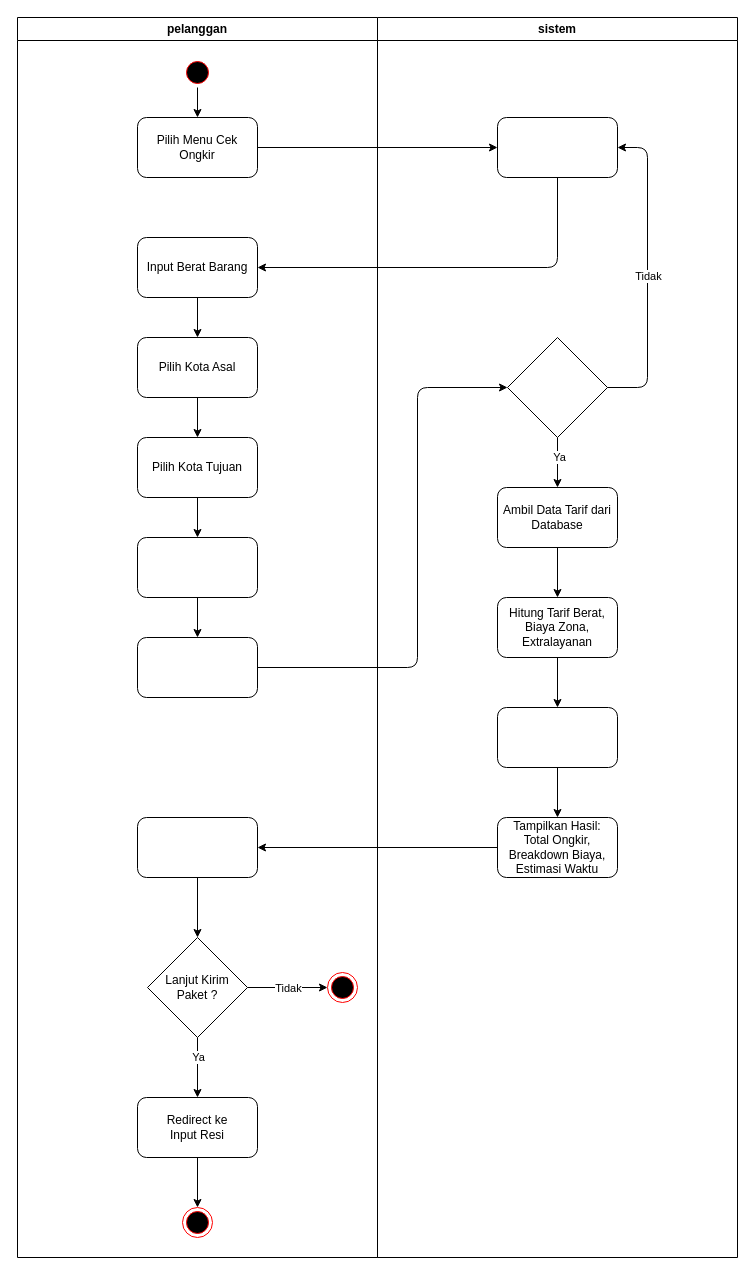
This 755x1275 diagram has some shape labels left out. The centre of each missing label's shape, as x and y in pixels:
"Hitung Estimasi Waktu Pengiriman" goes at point (557, 737).
"Klik Hitung" goes at point (197, 667).
"Lihat Hasil" goes at point (197, 847).
"Pilih Jenis Layanan" goes at point (197, 567).
"Tampilkan Form Cek Ongkir" goes at point (557, 147).
"Validasi Input" goes at point (557, 387).
